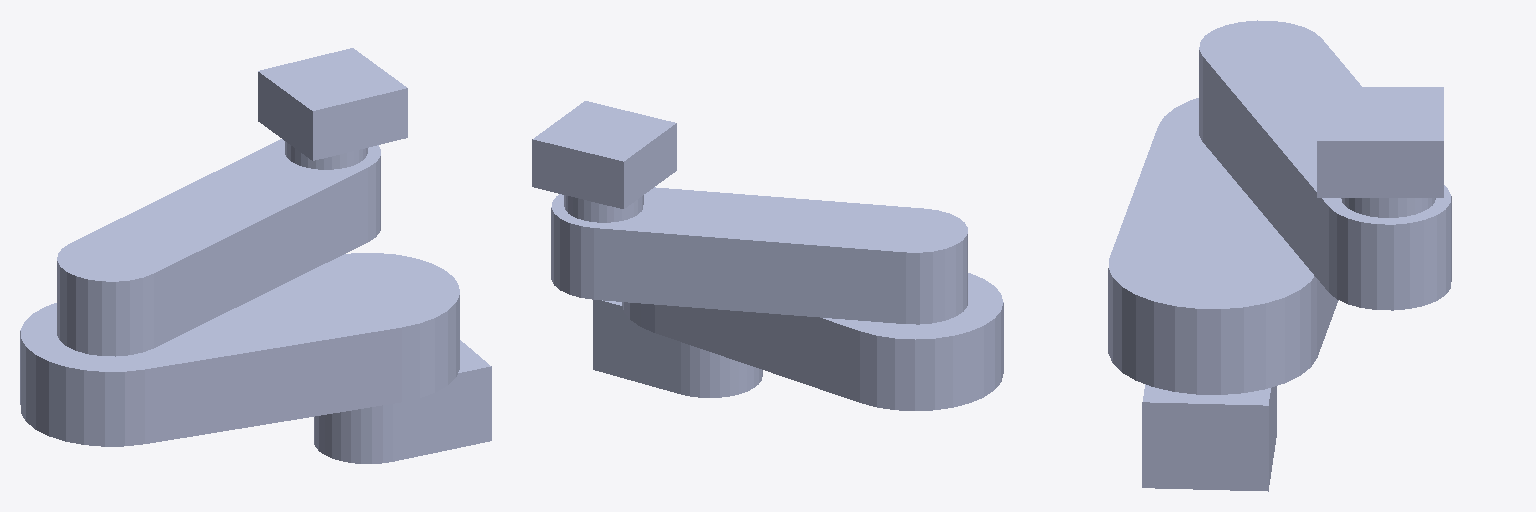
The robot description file, URDF, robot "arm_discrip":
<?xml version="1.0" encoding="utf-8"?>
<!-- This URDF was automatically created by SolidWorks to URDF Exporter! Originally created by [author] ([email redacted]) 
     Commit Version: 1.6.0-1-g15f4949  Build Version: 1.6.7594.29634
     For more information, please see http://wiki.ros.org/sw_urdf_exporter -->
<robot
  name="arm_discrip">
  <link
    name="base_link">
    <inertial>
      <origin
        xyz="1.0927323858247 -0.686700374911266 0.878210293558317"
        rpy="0 0 0" />
      <mass
        value="49.4805903270839" />
      <inertia
        ixx="11.5209337707897"
        ixy="0.0041078911519814"
        ixz="0.0178710713508414"
        iyy="11.328909472299"
        iyz="-0.0818380164177232"
        izz="0.667865148013673" />
    </inertial>
    <visual>
      <origin
        xyz="0 0 0"
        rpy="0 0 0" />
      <geometry>
        <mesh
          filename="package://arm_discrip/meshes/base_link.STL" />
      </geometry>
      <material
        name="">
        <color
          rgba="0.792156862745098 0.819607843137255 0.933333333333333 1" />
      </material>
    </visual>
    <collision>
      <origin
        xyz="0 0 0"
        rpy="0 0 0" />
      <geometry>
        <mesh
          filename="package://arm_discrip/meshes/base_link.STL" />
      </geometry>
    </collision>
  </link>
  <link
    name="link1">
    <inertial>
      <origin
        xyz="0.607427868764121 0.646438966184046 -0.0293617820424993"
        rpy="0 0 0" />
      <mass
        value="9.14159265358979" />
      <inertia
        ixx="0.0540508039409069"
        ixy="0.00535901115247588"
        ixz="-0.00205278300100914"
        iyy="0.0854151878954083"
        iyz="0.000338250493949396"
        izz="0.0864441362382773" />
    </inertial>
    <visual>
      <origin
        xyz="0 0 0"
        rpy="0 0 0" />
      <geometry>
        <mesh
          filename="package://arm_discrip/meshes/link1.STL" />
      </geometry>
      <material
        name="">
        <color
          rgba="0.792156862745098 0.819607843137255 0.933333333333333 1" />
      </material>
    </visual>
    <collision>
      <origin
        xyz="0 0 0"
        rpy="0 0 0" />
      <geometry>
        <mesh
          filename="package://arm_discrip/meshes/link1.STL" />
      </geometry>
    </collision>
  </link>
  <joint
    name="joint1"
    type="prismatic">
    <origin
      xyz="0.23491 -0.71189 0.25792"
      rpy="1.5708 0 0" />
    <parent
      link="base_link" />
    <child
      link="link1" />
    <axis
      xyz="0 1 0" />
    <limit
      lower="-0.66628"
      upper="0.48372"
      effort="0"
      velocity="0" />
  </joint>
  <link
    name="link2">
    <inertial>
      <origin
        xyz="0.29643288757117 0.63879254841078 -0.0696448400933979"
        rpy="0 0 0" />
      <mass
        value="38.0899693899575" />
      <inertia
        ixx="0.44790507071409"
        ixy="0.0181676414929884"
        ixz="-0.255030208541011"
        iyy="2.21115735519494"
        iyz="0.00304081294152312"
        izz="1.92892285941829" />
    </inertial>
    <visual>
      <origin
        xyz="0 0 0"
        rpy="0 0 0" />
      <geometry>
        <mesh
          filename="package://arm_discrip/meshes/link2.STL" />
      </geometry>
      <material
        name="">
        <color
          rgba="0.792156862745098 0.819607843137255 0.933333333333333 1" />
      </material>
    </visual>
    <collision>
      <origin
        xyz="0 0 0"
        rpy="0 0 0" />
      <geometry>
        <mesh
          filename="package://arm_discrip/meshes/link2.STL" />
      </geometry>
    </collision>
  </link>
  <joint
    name="joint2"
    type="continuous">
    <origin
      xyz="0 0.15 0"
      rpy="0 0.011092 0" />
    <parent
      link="link1" />
    <child
      link="link2" />
    <axis
      xyz="0 1 0" />
  </joint>
  <link
    name="link3">
    <inertial>
      <origin
        xyz="0.853960224385902 0.638338758777492 -0.230514716711854"
        rpy="0 0 0" />
      <mass
        value="22.319689898686" />
      <inertia
        ixx="0.233366926836783"
        ixy="-0.00465464633211548"
        ixz="0.317798644596256"
        iyy="1.1262466603104"
        iyz="0.00170687238108528"
        izz="0.983467137001436" />
    </inertial>
    <visual>
      <origin
        xyz="0 0 0"
        rpy="0 0 0" />
      <geometry>
        <mesh
          filename="package://arm_discrip/meshes/link3.STL" />
      </geometry>
      <material
        name="">
        <color
          rgba="0.792156862745098 0.819607843137255 0.933333333333333 1" />
      </material>
    </visual>
    <collision>
      <origin
        xyz="0 0 0"
        rpy="0 0 0" />
      <geometry>
        <mesh
          filename="package://arm_discrip/meshes/link3.STL" />
      </geometry>
    </collision>
  </link>
  <joint
    name="joint3"
    type="continuous">
    <origin
      xyz="-0.5 0.15 0"
      rpy="0 -0.022487 0" />
    <parent
      link="link2" />
    <child
      link="link3" />
    <axis
      xyz="0 1 0" />
  </joint>
  <link
    name="link_gripper">
    <inertial>
      <origin
        xyz="1.72979438999119 0.652501758988008 -0.297338194058801"
        rpy="0 0 0" />
      <mass
        value="4.4908738521234" />
      <inertia
        ixx="0.0202967545713154"
        ixy="-0.000199226938271994"
        ixz="-3.39406175284602E-05"
        iyy="0.0287483587037318"
        iyz="-0.000418979949292022"
        izz="0.0202415154053278" />
    </inertial>
    <visual>
      <origin
        xyz="0 0 0"
        rpy="0 0 0" />
      <geometry>
        <mesh
          filename="package://arm_discrip/meshes/link_gripper.STL" />
      </geometry>
      <material
        name="">
        <color
          rgba="0.792156862745098 0.819607843137255 0.933333333333333 1" />
      </material>
    </visual>
    <collision>
      <origin
        xyz="0 0 0"
        rpy="0 0 0" />
      <geometry>
        <mesh
          filename="package://arm_discrip/meshes/link_gripper.STL" />
      </geometry>
    </collision>
  </link>
  <joint
    name="joint_gripper"
    type="continuous">
    <origin
      xyz="-0.6 0.15000000000001 0"
      rpy="0 0.0113954785402925 0" />
    <parent
      link="link3" />
    <child
      link="link_gripper" />
    <axis
      xyz="0 1 0" />
  </joint>
</robot>

--- Facts derived from the render (not from the file) ---
The picture shows the robot from 3 angles, left to right: view 1: azimuth 30°, elevation 25°; view 2: azimuth 150°, elevation 25°; view 3: azimuth 270°, elevation 25°; orthographic projection.
Model arm_discrip with 5 links and 4 joints (3 continuous, 1 prismatic), rooted at base_link, posed every joint at zero.
Visible links, largest first — view 1: link2, link3, link_gripper, link1; view 2: link3, link2, link_gripper, link1; view 3: link2, link3, link_gripper, link1.
Link boxes in pixels (x1=…): link2: x1=20, y1=253, x2=459, y2=446; link3: x1=57, y1=139, x2=380, y2=356; link_gripper: x1=258, y1=48, x2=407, y2=169; link1: x1=314, y1=340, x2=491, y2=463; link3: x1=551, y1=187, x2=967, y2=324; link2: x1=622, y1=273, x2=1003, y2=410; link_gripper: x1=532, y1=101, x2=676, y2=222; link1: x1=593, y1=300, x2=762, y2=397; link2: x1=1108, y1=98, x2=1338, y2=394; link3: x1=1199, y1=20, x2=1451, y2=310; link_gripper: x1=1317, y1=87, x2=1443, y2=217; link1: x1=1142, y1=384, x2=1276, y2=491.
Bounding box of the posed robot: 0.8662 × 0.5432 × 0.6 m (x, y, z).
4 mesh visuals loaded from 5 distinct referenced files (4 binary STL); not drawn: 1 (reference not matched to a file when rendering).